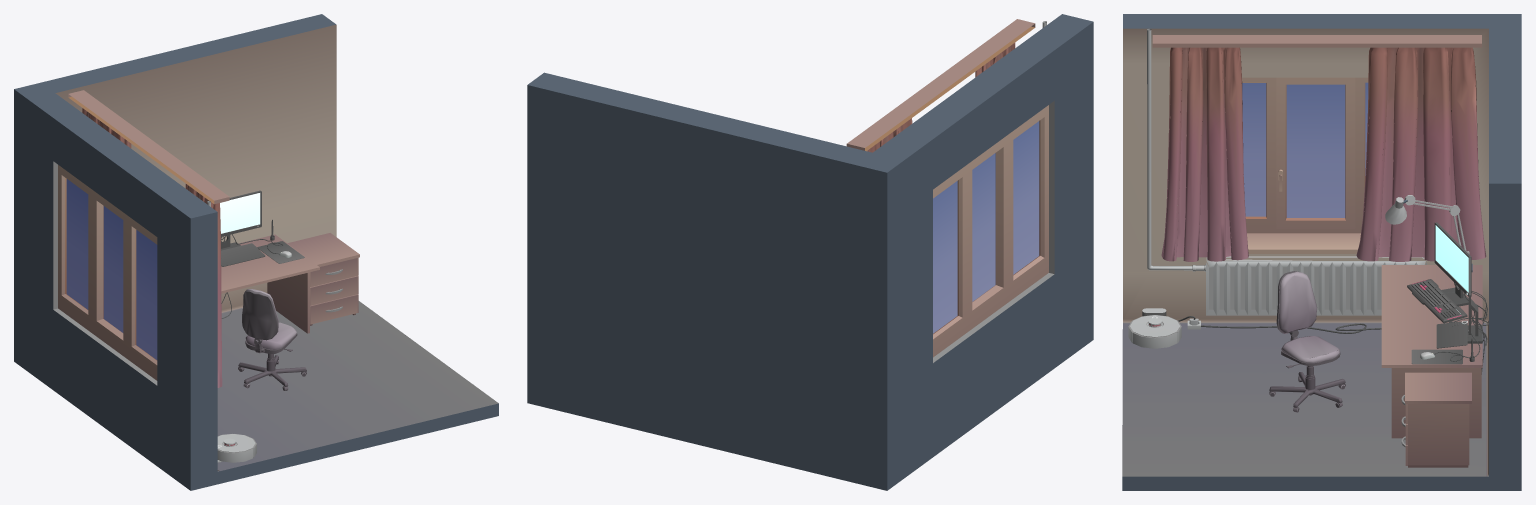
The model's file is optimized-room-transformed-transformed.glb.
The picture shows the model from 3 angles, left to right: view 1: azimuth 30°, elevation 25°; view 2: azimuth 150°, elevation 25°; view 3: azimuth 270°, elevation 25°; orthographic projection. The views are drawn at different scales.
Visible parts, largest first — view 1: _________6_blinn1_0, window4_phong1_0, emis_lambert1_0; view 2: _________6_blinn1_0, window4_phong1_0; view 3: _________6_blinn1_0, window4_phong1_0, emis_lambert1_0.
Boxes of the visible parts, x1,y1,x2,y2 form: _________6_blinn1_0: (14, 14, 498, 490); window4_phong1_0: (66, 179, 157, 359); emis_lambert1_0: (218, 193, 281, 447); _________6_blinn1_0: (527, 14, 1093, 490); window4_phong1_0: (933, 121, 1039, 333); _________6_blinn1_0: (1122, 14, 1521, 490); window4_phong1_0: (1242, 82, 1368, 217); emis_lambert1_0: (1152, 225, 1468, 353).
Size of the model in its own units: 6.68 by 5.66 by 6.65.
